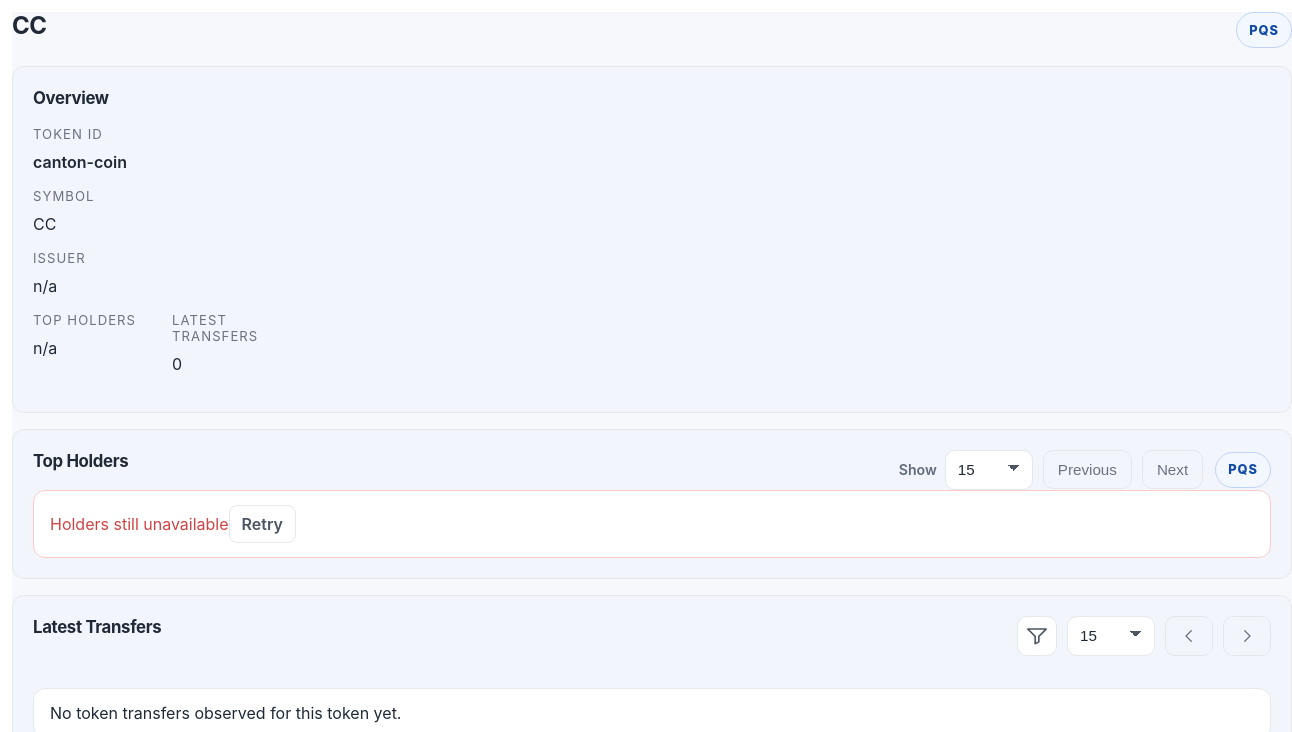
TokenDetailView › keeps the token summary and transfers mounted when holders fail twice and retries only holders
Expected: the heading "CC" is shown, left=12, top=12, right=47, bottom=41
Expected: the text "canton-coin" is shown, left=33, top=152, right=127, bottom=172
Click the button "Retry". click: (262, 524)
box: left=229, top=505, right=296, bottom=543
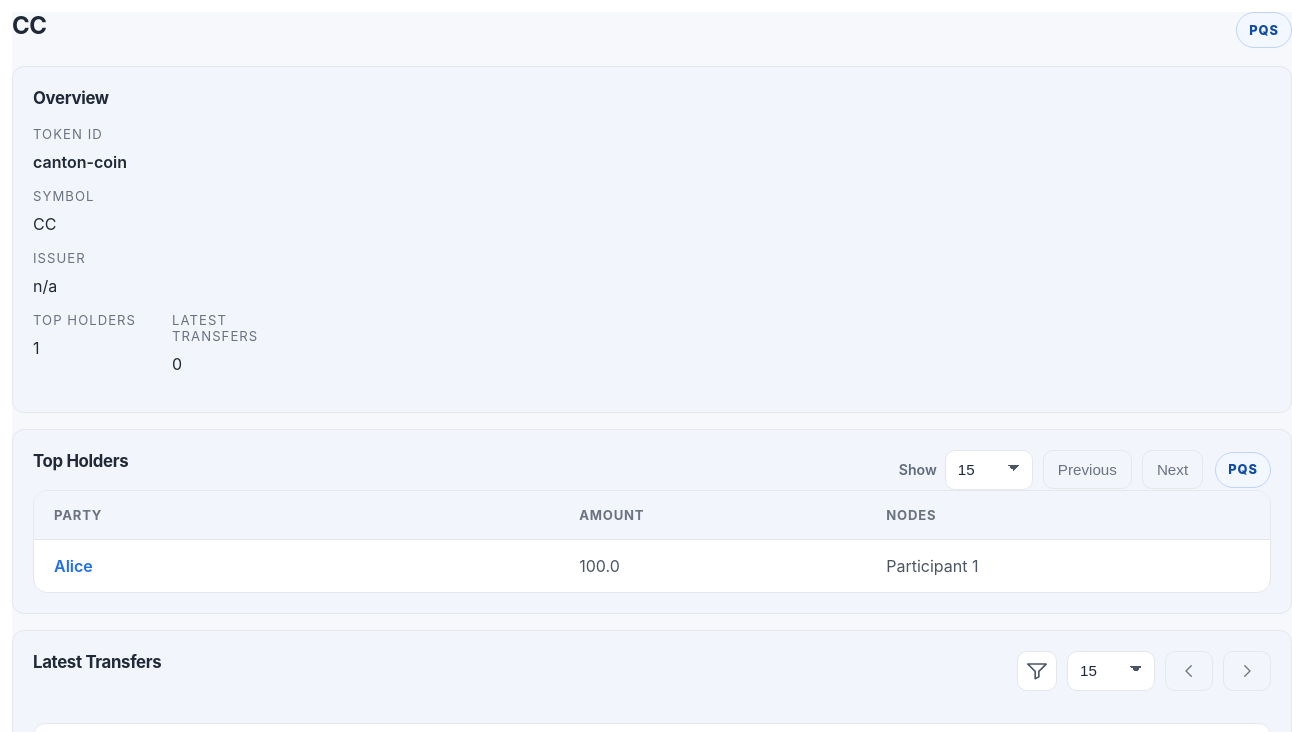
Expected: the text "canton-coin" is shown, left=33, top=152, right=127, bottom=172
Result: the link "Alice" is shown at left=54, top=556, right=93, bottom=576
